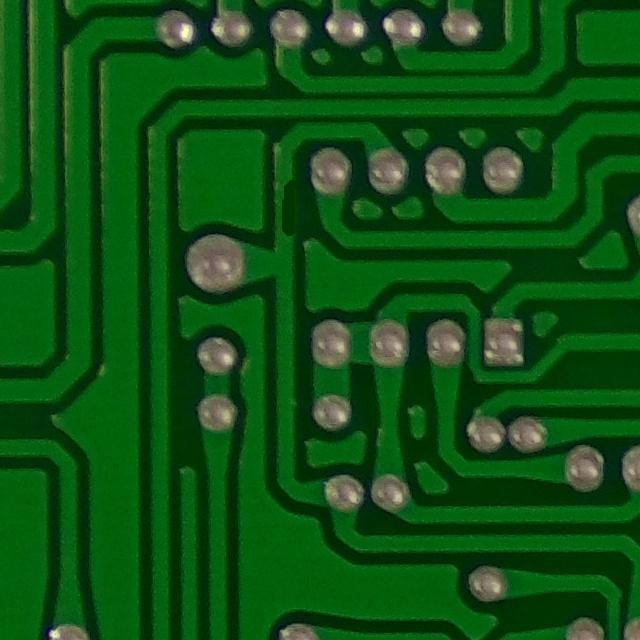mouse_bite: (266, 165, 306, 248)
